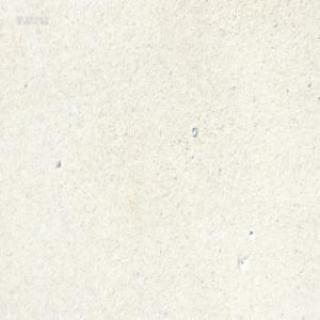Washertrack_idkeyframe: (190, 125, 197, 136)
